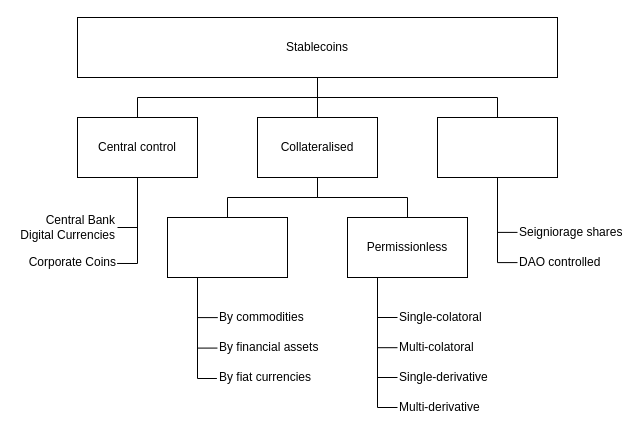
The diagram is 644 pixels wide and 435 high, and some of its shapes have lost their labels. Each missing label, with the box of its shape:
Algorithmic: (436, 116, 558, 178)
Permissioned: (166, 216, 288, 278)
